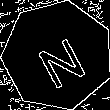N_NW: (27, 24, 87, 87)
